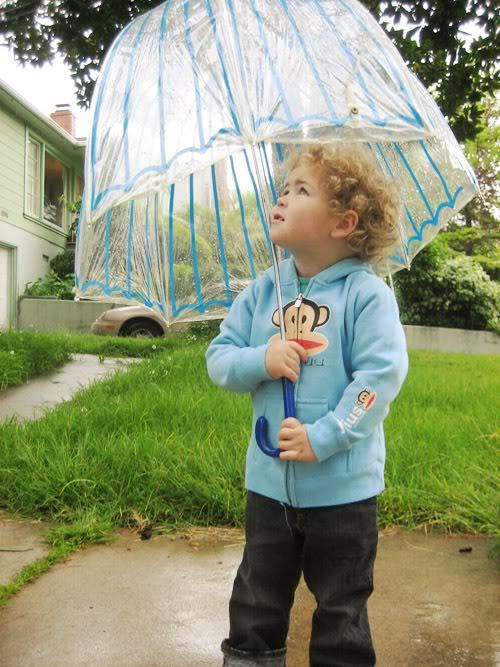person: (206, 138, 409, 667)
